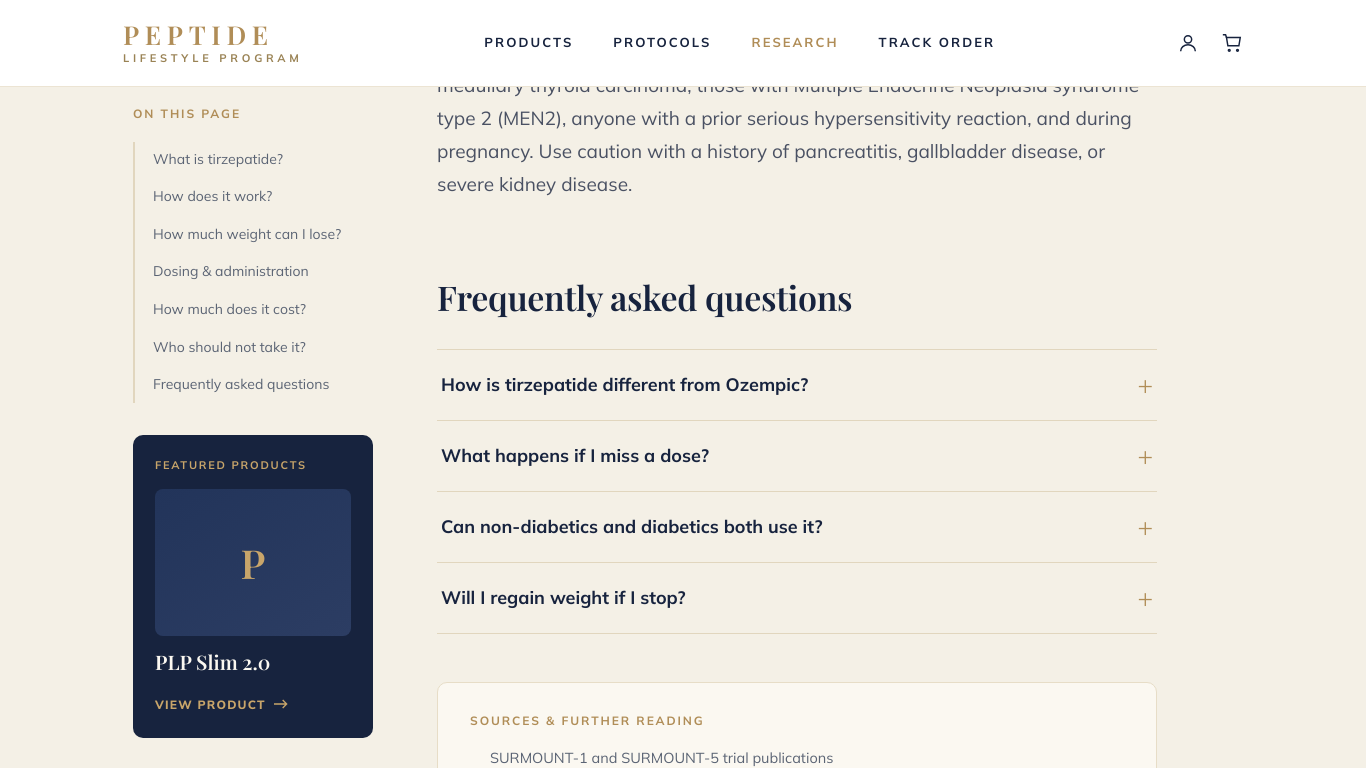
Scenario: ResearchArticle view › toggles a FAQ answer open when its question is clicked
(page scrolled)
Step 1. Click the button "How is tirzepatide different from Ozempic? +" → click(797, 385), box [437, 350, 1157, 420]
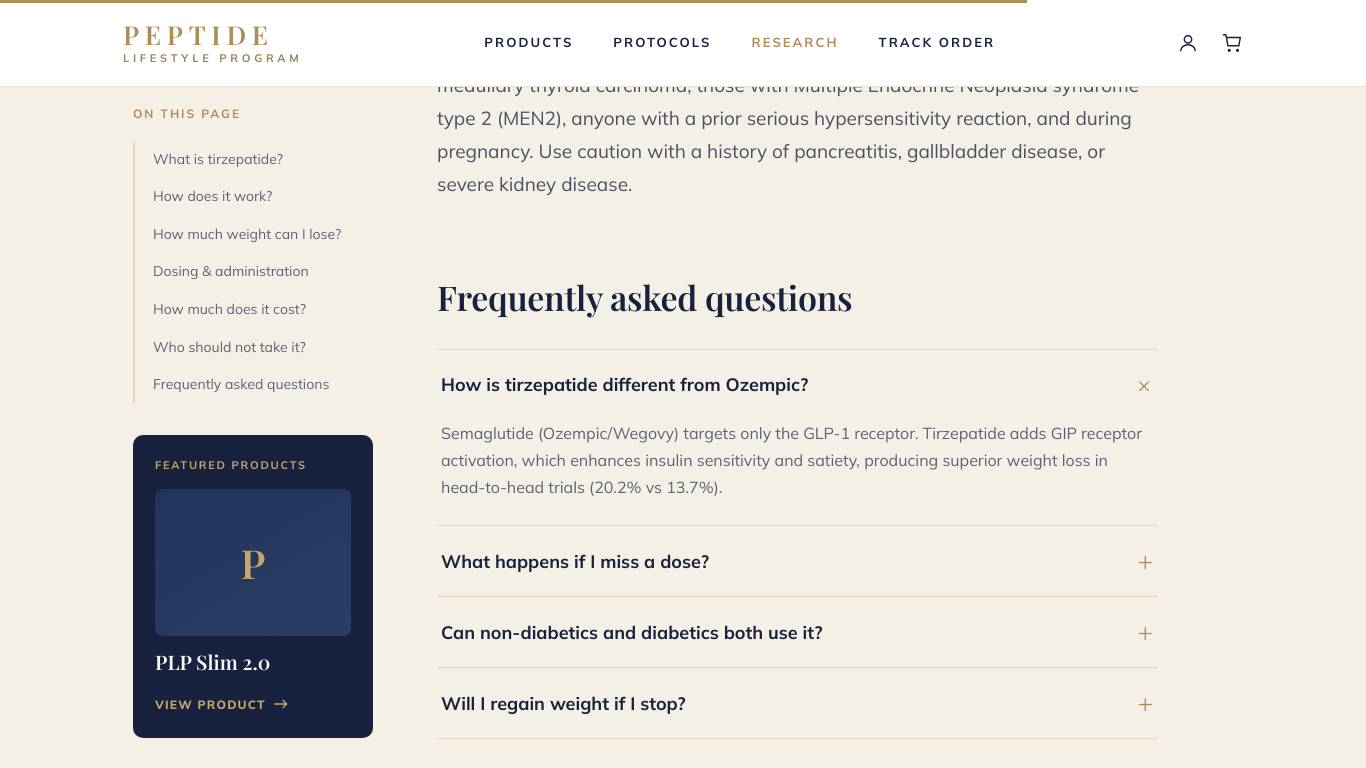
Now the button "How is tirzepatide different from Ozempic? +" is expanded, box [437, 350, 1157, 420]
